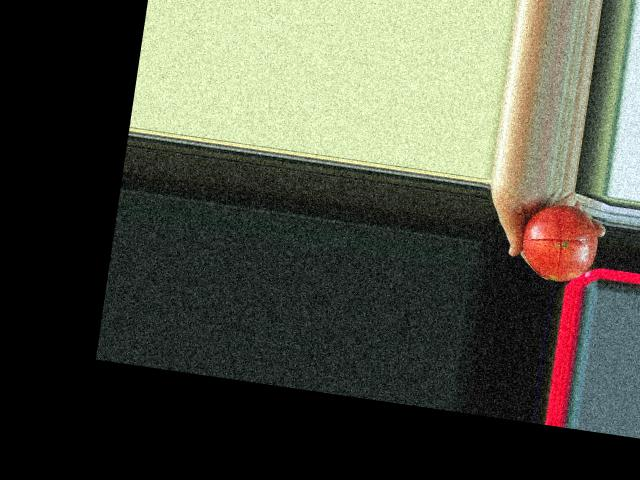tomato: (517, 199, 603, 286)
